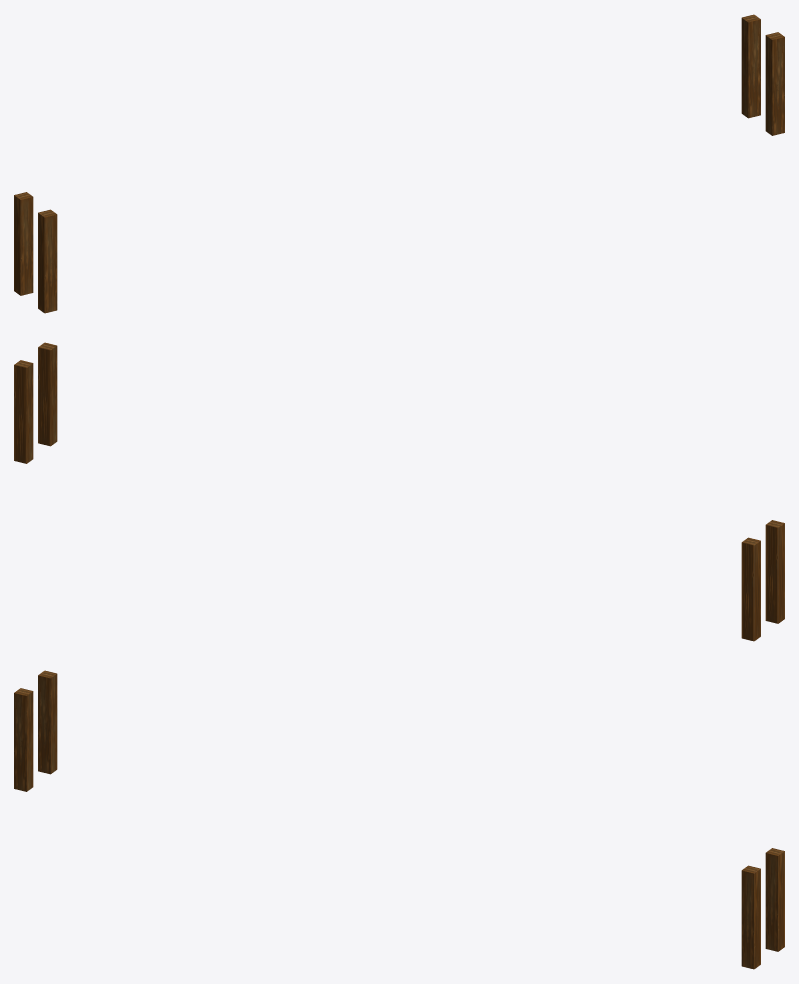
3 views of the same model, one above another, from view 1: azimuth 30°, elevation 25°; view 2: azimuth 150°, elevation 25°; view 3: azimuth 330°, elevation 25° (orthographic).
Parts seen in each view (by area): view 1: Cube.1516; view 2: Cube.1516; view 3: Cube.1516.
Boxes of the visible parts, left/top/right/bottom form: Cube.1516: left=14, top=14, right=784, bottom=313; Cube.1516: left=14, top=342, right=784, bottom=641; Cube.1516: left=14, top=670, right=784, bottom=969.
Size of the model in its own units: 916 by 113 by 65.75.
Materials: 1 (1 with a texture image).
